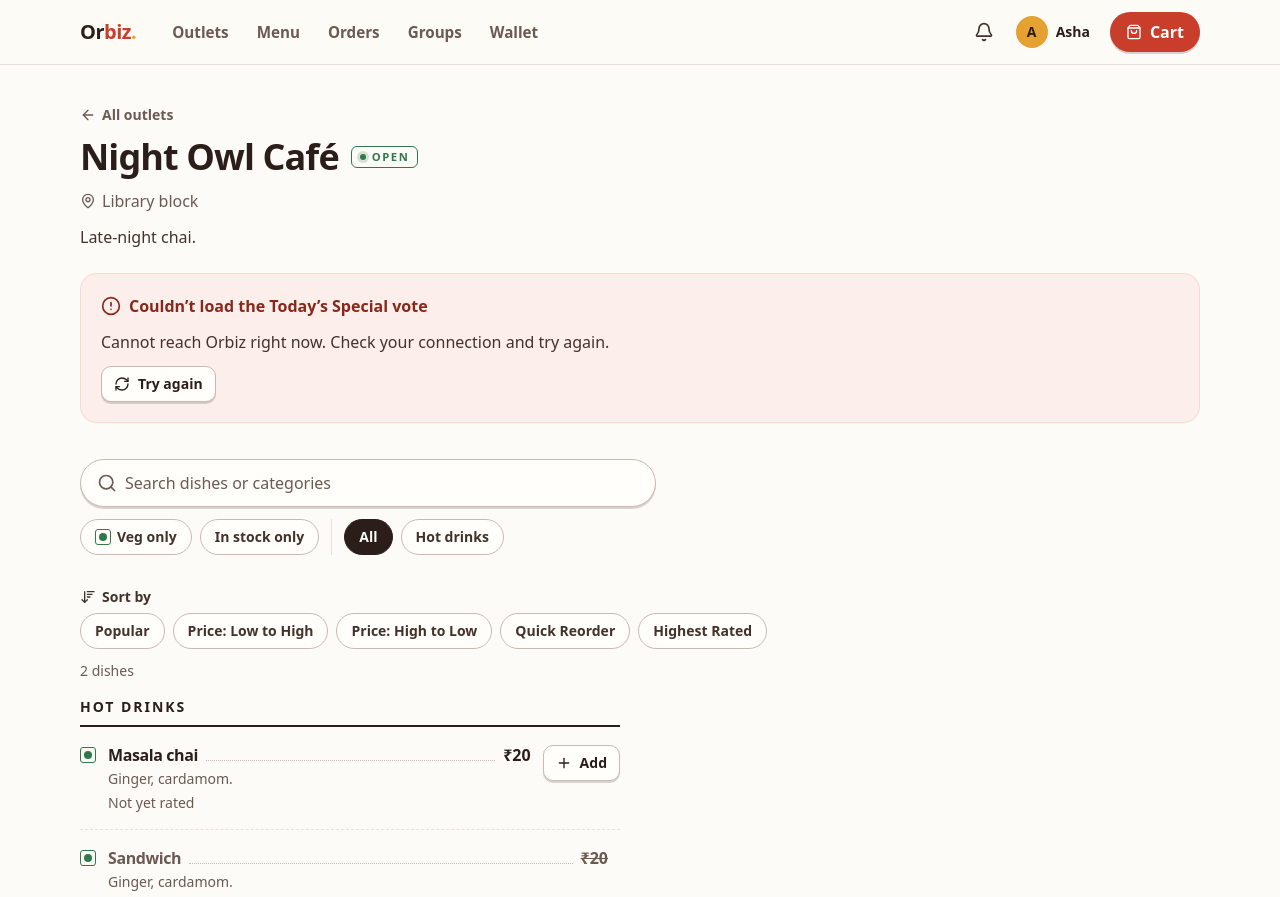
Test case: adding to cart from the menu › adds through the API and then shows the server quantity and cart bar
This screenshot has width=1280, height=897.
Click the button with aria-label "Add Masala chai to cart" at (581, 763), box [543, 745, 620, 781]
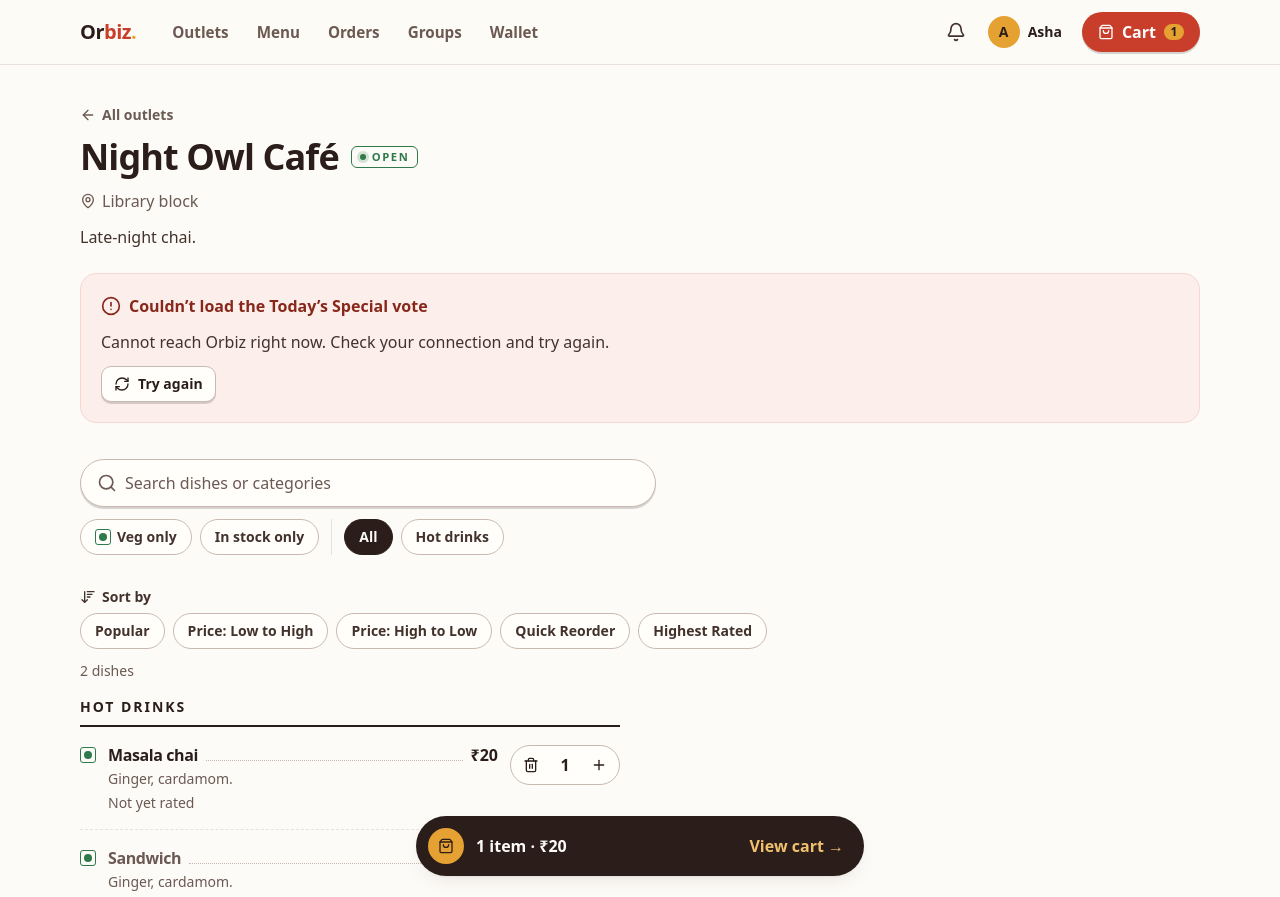
Now the text "1" in the row of "Masala chai" is shown, box [560, 754, 570, 776]
